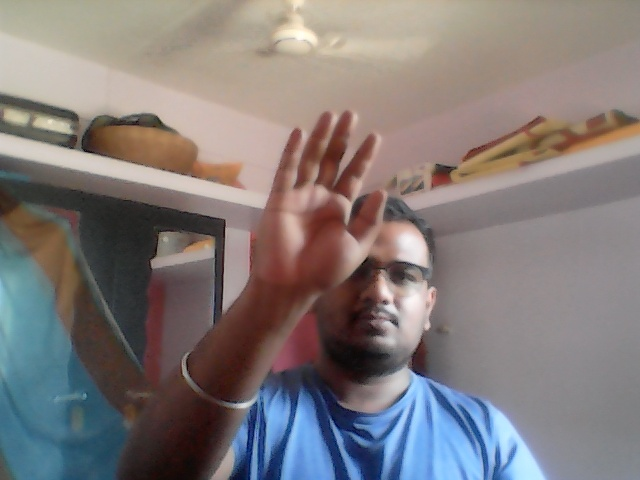Hello: (250, 104, 392, 309)
